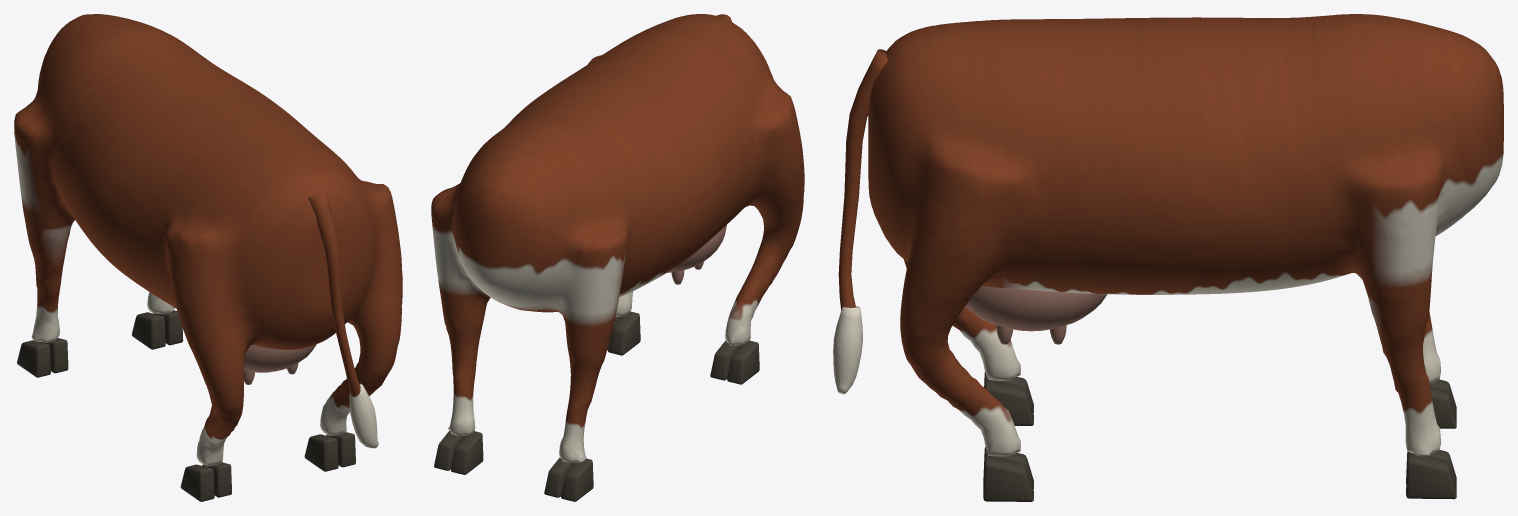
The model's file is SM_Cow_Alive_Body.fbx.
3 renders of one model, left to right at view 1: azimuth 30°, elevation 25°; view 2: azimuth 150°, elevation 25°; view 3: azimuth 270°, elevation 25°, orthographic. The views are drawn at different scales.
Visible parts, largest first — view 1: SM_Cow_Alive_Body.001; view 2: SM_Cow_Alive_Body.001; view 3: SM_Cow_Alive_Body.001.
Part boxes in pixels (box(x1,y1,x2,y2)): SM_Cow_Alive_Body.001: box(14, 14, 402, 501); SM_Cow_Alive_Body.001: box(431, 14, 804, 501); SM_Cow_Alive_Body.001: box(833, 14, 1503, 501).
Size of the model in its own units: 0.9532 by 2.02 by 1.43.
